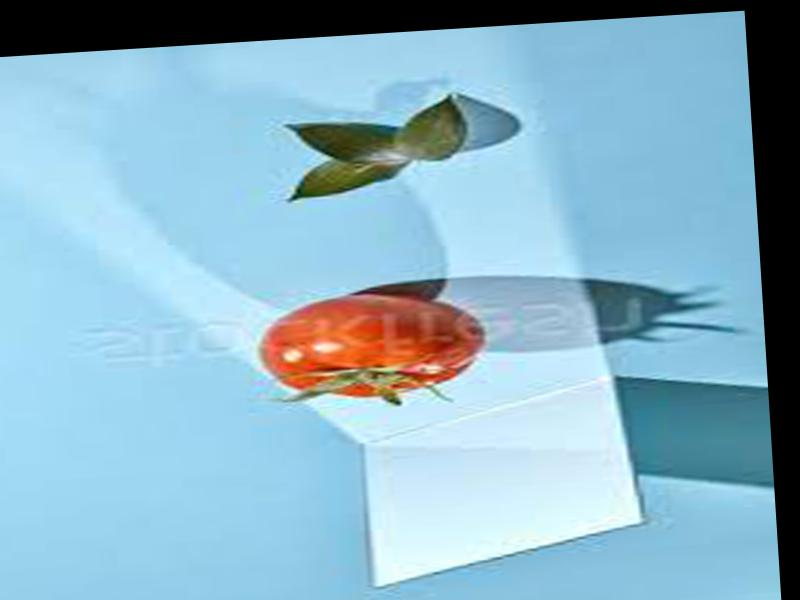Tomato: (250, 286, 488, 405)
